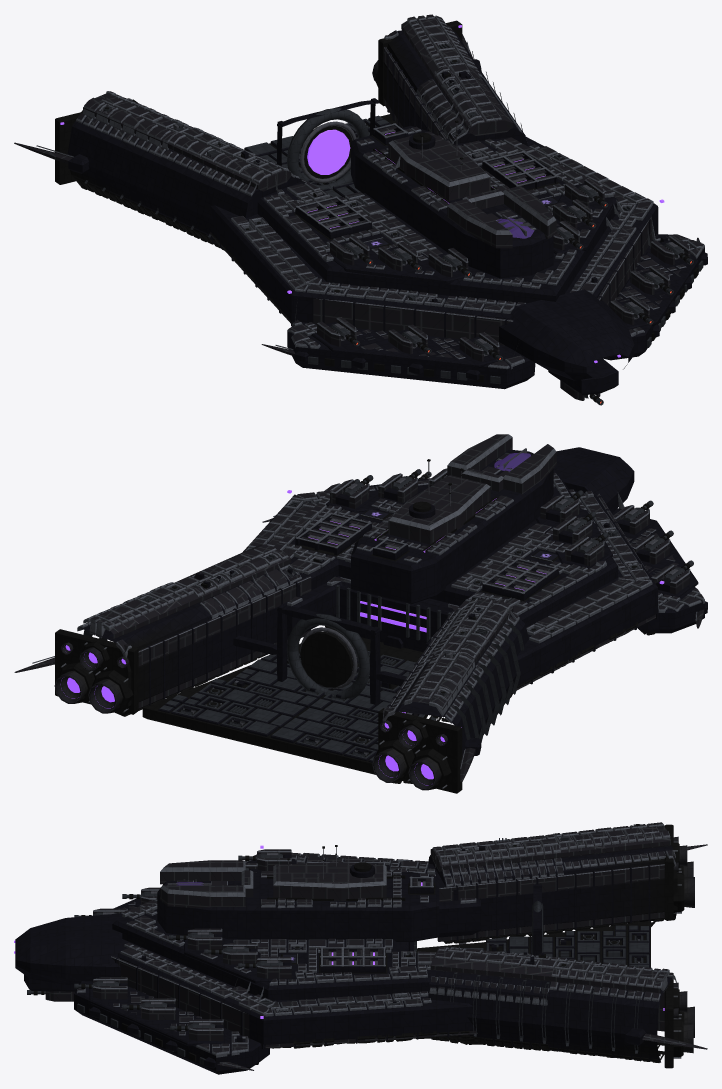
The model's file is eris-schiff8.glb.
3 views of the same model, one above another, from view 1: azimuth 30°, elevation 25°; view 2: azimuth 150°, elevation 25°; view 3: azimuth 270°, elevation 25° (orthographic). The views are drawn at different scales.
Visible parts, largest first — view 1: Hull_LOD0; view 2: Hull_LOD0, EngineLight; view 3: Hull_LOD0.
Boxes of the visible parts, left/top/right/bottom form: Hull_LOD0: left=14, top=14, right=707, bottom=400; Hull_LOD0: left=14, top=434, right=707, bottom=793; EngineLight: left=60, top=645, right=445, bottom=785; Hull_LOD0: left=14, top=822, right=707, bottom=1074.
Size of the model in its own units: 77.08 by 27.46 by 110.
Materials: 6 (4 with a texture image).
